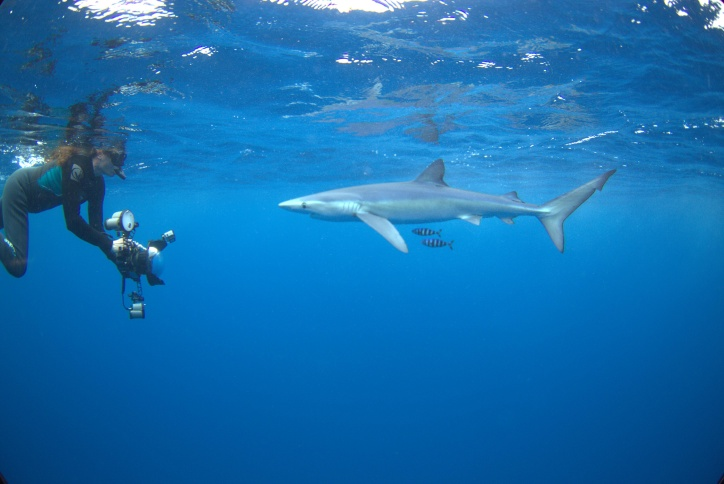Azul: (253, 139, 636, 271)
